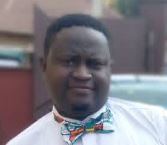without_facemask: (52, 71, 113, 110)
